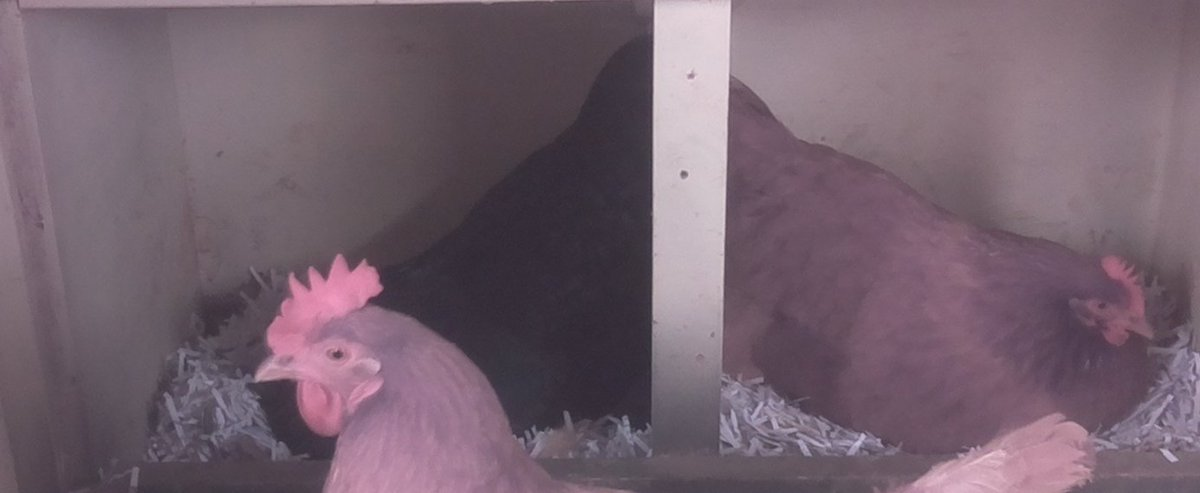hen: (254, 22, 650, 455), (734, 59, 1166, 449), (255, 245, 544, 493)
